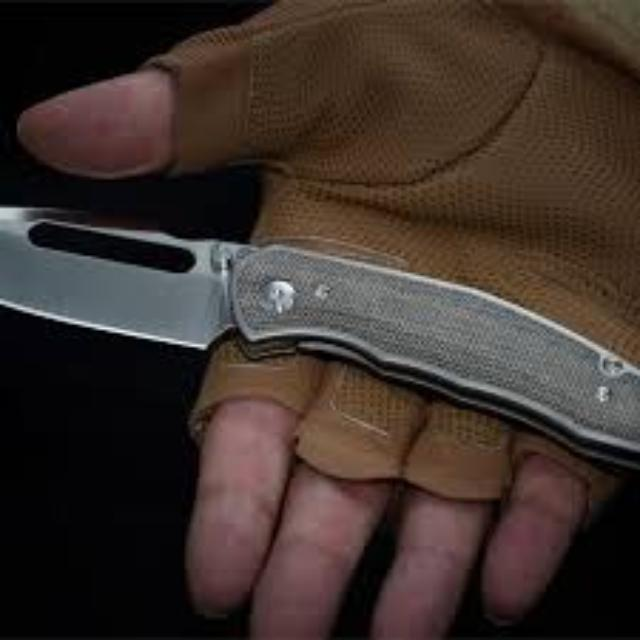Knife: (0, 200, 638, 480)
